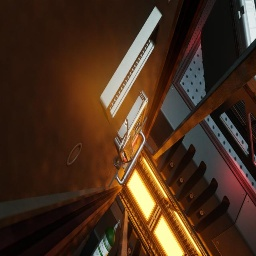0: (90, 219, 120, 256)
EmergencyPhone ,: (113, 90, 148, 170)
FireAlarm ,: (121, 134, 139, 165)
